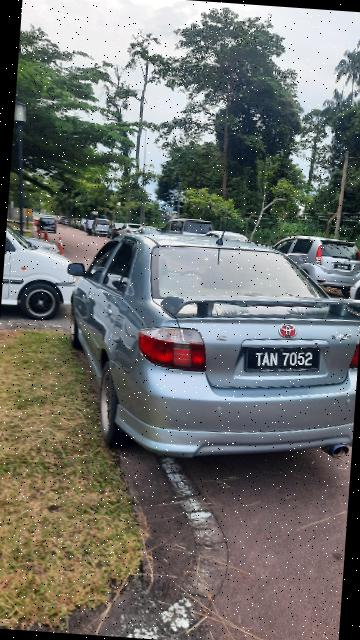License_Plate: (243, 333, 324, 376)
car: (49, 225, 360, 476)
